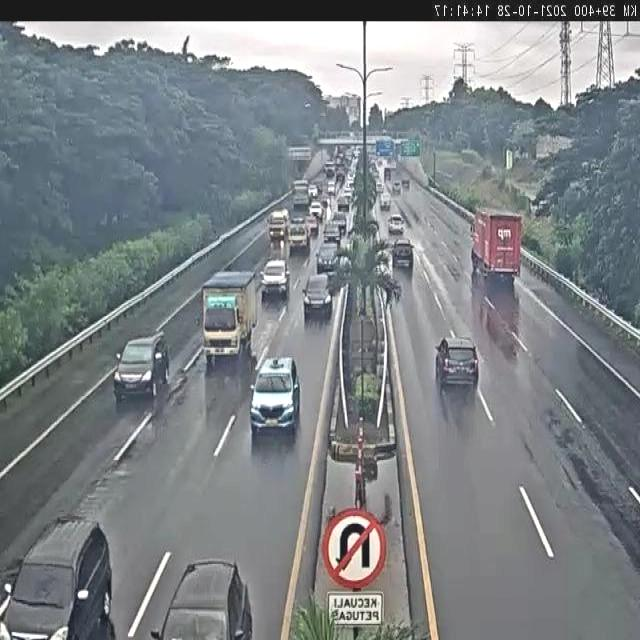Car: (1, 516, 115, 640), (249, 352, 300, 439), (114, 332, 170, 402), (435, 336, 479, 393), (302, 273, 333, 320), (262, 258, 292, 300), (316, 244, 338, 274), (392, 238, 414, 268), (323, 222, 341, 244), (332, 212, 348, 235), (304, 214, 319, 237), (387, 214, 405, 233), (309, 201, 323, 221), (337, 193, 350, 211), (380, 192, 391, 210), (308, 184, 318, 199), (327, 180, 336, 195), (392, 181, 402, 194)
Truck: (201, 269, 260, 368), (470, 208, 522, 286), (267, 209, 291, 242), (287, 222, 309, 253), (293, 178, 311, 210), (324, 160, 336, 177), (336, 163, 346, 180)
